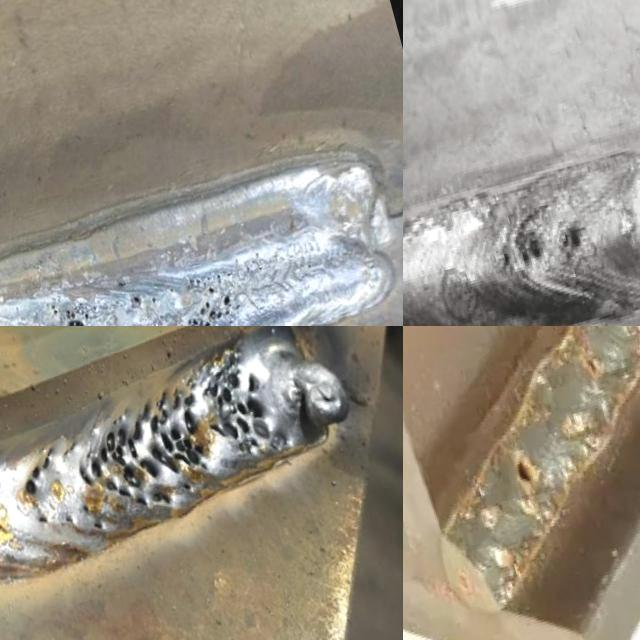defect: (82, 381, 209, 510), (198, 350, 277, 456), (498, 208, 545, 283), (170, 277, 238, 326), (15, 437, 58, 503), (554, 210, 589, 269), (514, 452, 535, 484), (580, 347, 600, 376), (126, 286, 147, 313), (64, 435, 83, 458), (36, 509, 54, 531), (90, 519, 105, 535), (80, 498, 90, 514), (62, 514, 73, 527)
